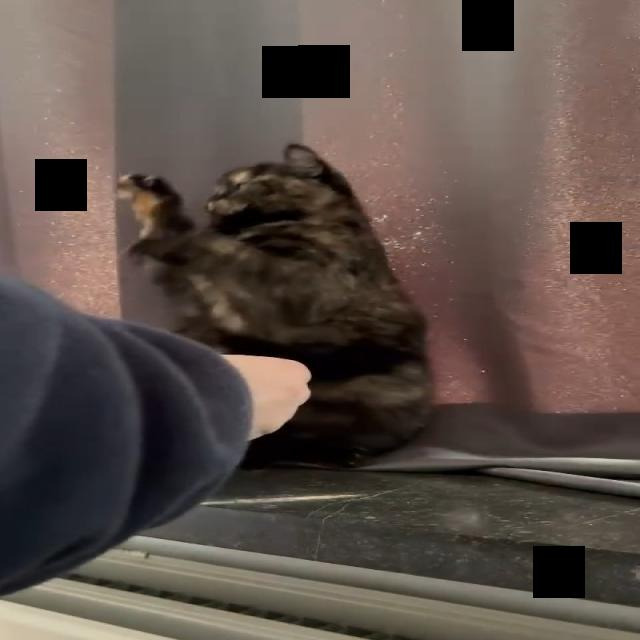authorized: (114, 142, 434, 469)
